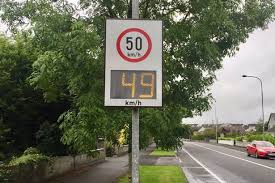sp50: (116, 29, 153, 62)
